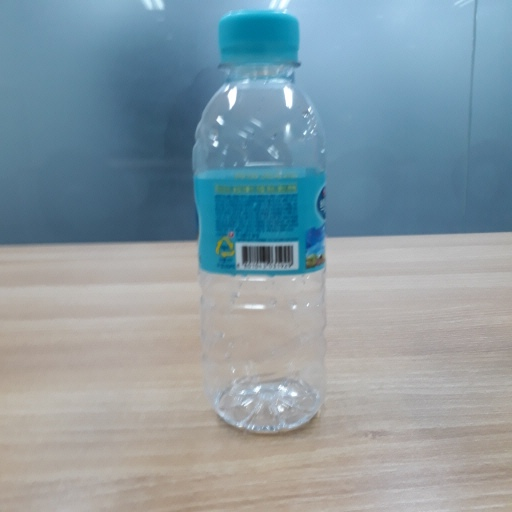Plastic_0: (180, 8, 333, 444)
